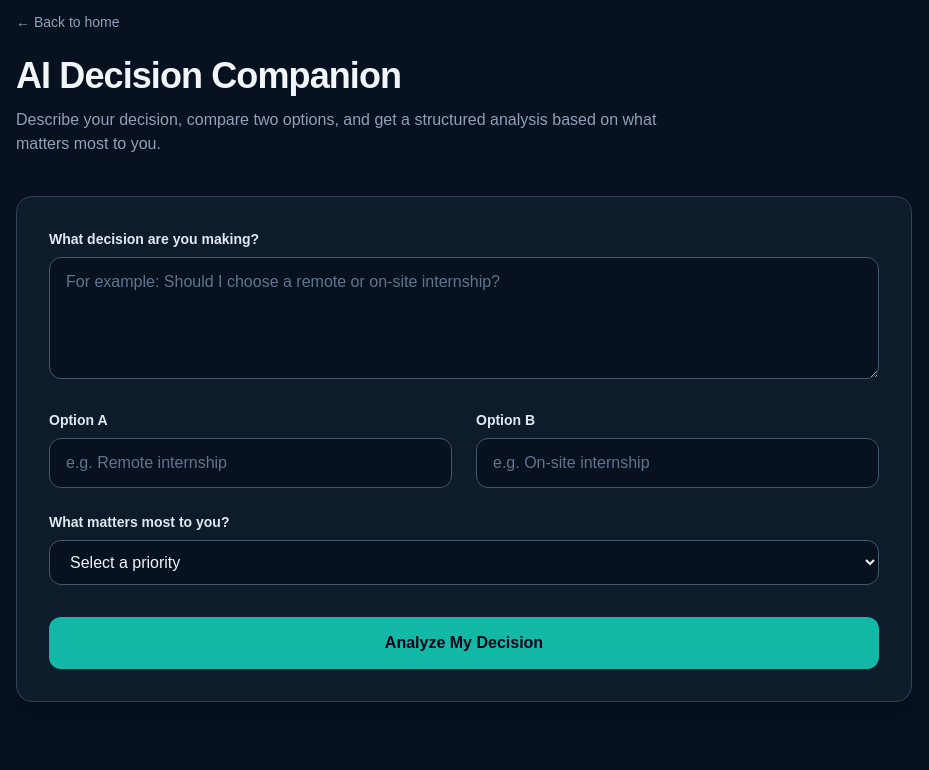
AI Decision Companion › shows validation errors when the form is submitted empty
What coordinates should you click on to do the following:
click the button "Analyze My Decision"
I would click on:
 (464, 643)
Its box is [49, 617, 879, 669].
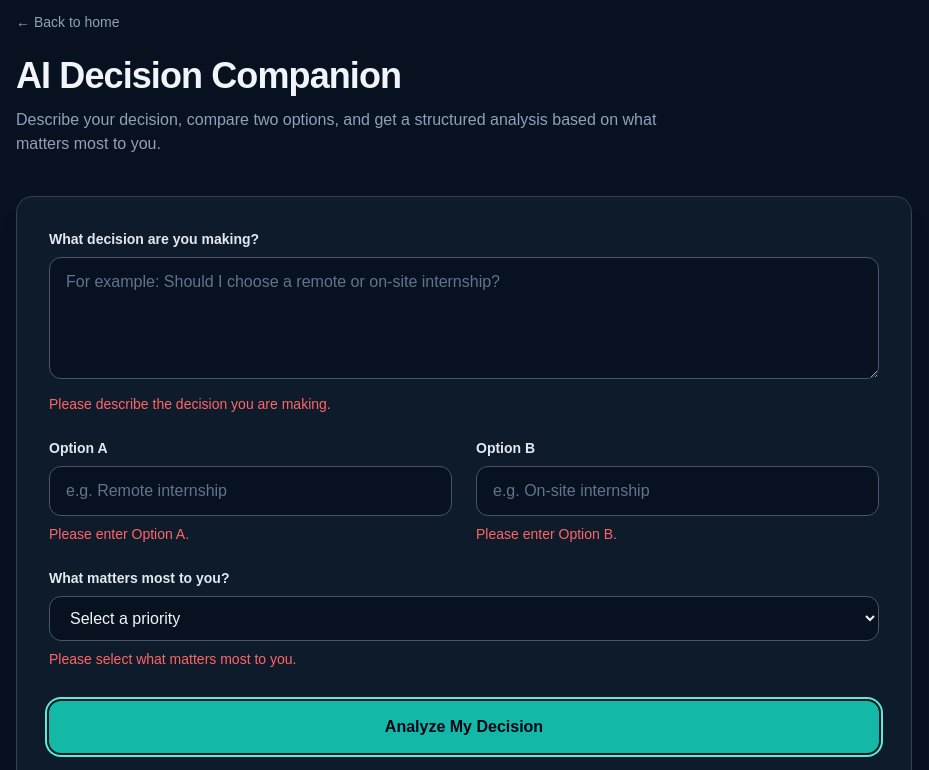
Now the text "Please describe the decision you are making." is shown, box [49, 396, 331, 412]
Now the text "Please enter Option A." is shown, box [49, 526, 189, 542]
Now the text "Please enter Option B." is shown, box [476, 526, 617, 542]
